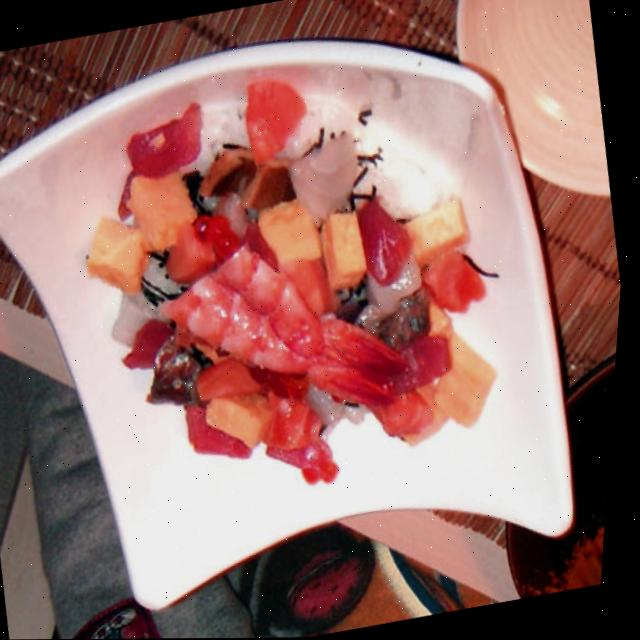寿司卷物: (52, 29, 556, 538)
